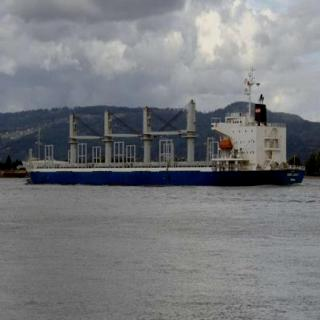Bulk Carrier: (16, 91, 308, 186)
